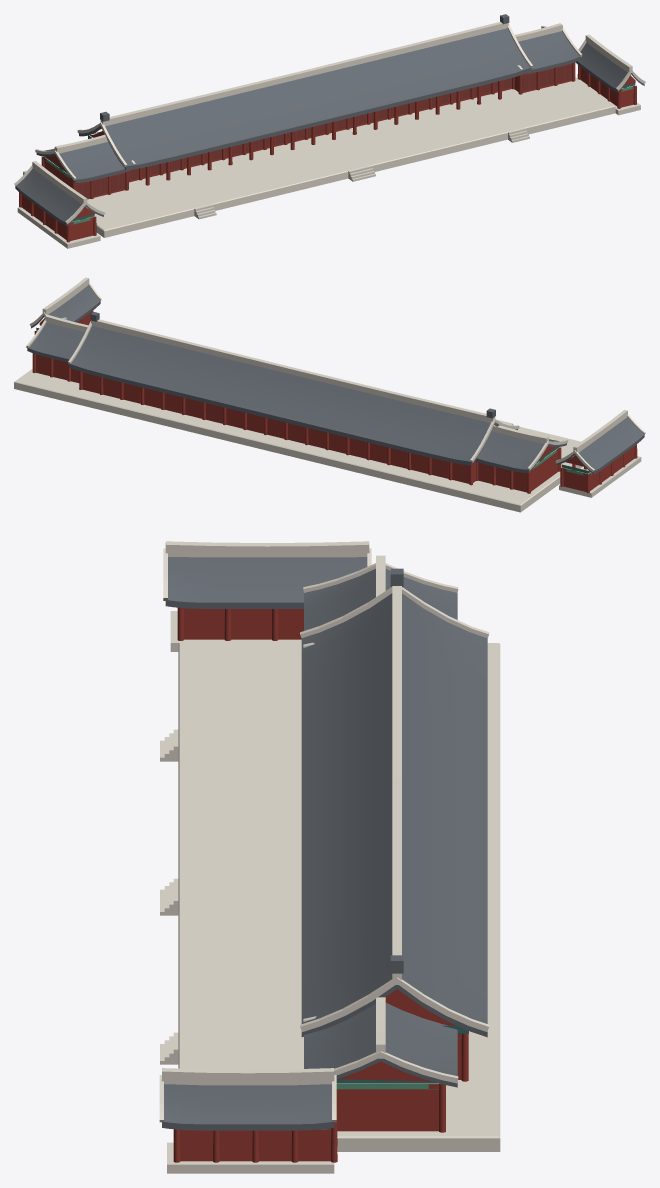
The model's file is seoul-jongmyo-jeongjeon.glb.
3 renders of one model, top to bottom at view 1: azimuth 30°, elevation 25°; view 2: azimuth 150°, elevation 25°; view 3: azimuth 270°, elevation 25°, orthographic. The views are drawn at different scales.
Parts seen in each view (by area): view 1: Jongmyo Jeongjeon; view 2: Jongmyo Jeongjeon; view 3: Jongmyo Jeongjeon.
Part boxes in pixels (box(x1,y1,x2,y2)): Jongmyo Jeongjeon: box(14, 14, 645, 248); Jongmyo Jeongjeon: box(14, 277, 645, 512); Jongmyo Jeongjeon: box(159, 541, 500, 1173).
Size of the model in its own units: 105 by 12.25 by 27.08.
